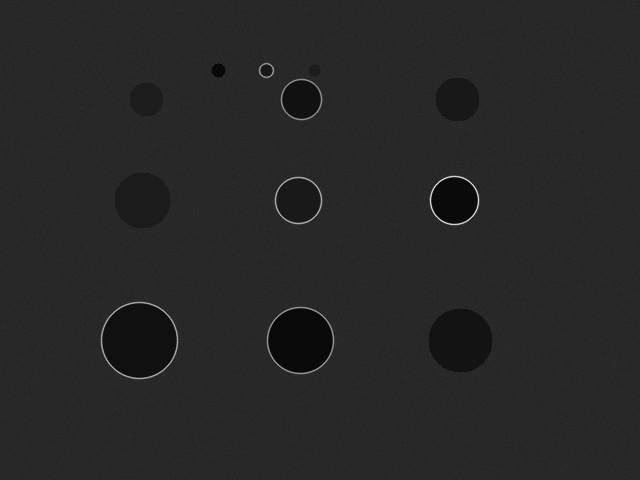hole: (101, 302, 177, 378), (267, 307, 333, 373), (428, 308, 492, 372), (114, 172, 170, 228), (430, 176, 478, 224), (275, 177, 321, 223), (435, 77, 479, 121), (281, 79, 321, 119), (129, 82, 163, 116), (211, 63, 225, 77), (259, 63, 273, 77), (308, 64, 320, 76)
